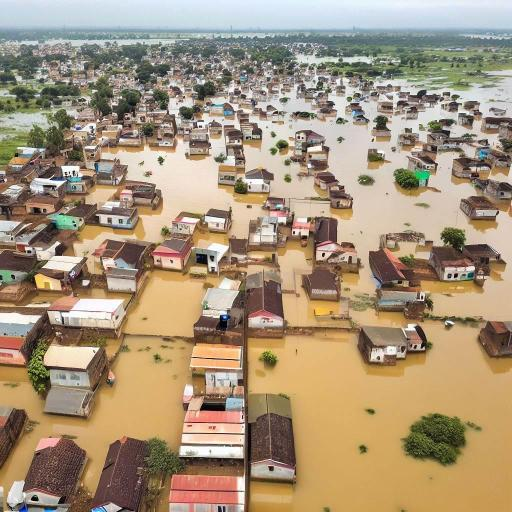flood: (248, 99, 512, 326), (249, 322, 512, 512), (0, 336, 193, 494), (72, 136, 264, 258), (124, 270, 206, 337), (279, 240, 336, 326), (0, 110, 48, 165), (448, 76, 512, 112), (258, 86, 312, 111), (452, 120, 500, 145), (168, 76, 194, 113), (376, 78, 448, 91), (332, 77, 354, 111), (44, 38, 114, 46), (296, 54, 338, 64), (116, 38, 175, 44), (344, 56, 373, 63), (19, 40, 38, 44)
house: (20, 436, 88, 510), (93, 437, 159, 509), (247, 393, 297, 485), (182, 392, 246, 462), (166, 471, 248, 512), (242, 272, 286, 341), (60, 296, 128, 334), (0, 312, 48, 364), (96, 236, 148, 282), (188, 340, 244, 382), (44, 344, 102, 382), (0, 404, 30, 476), (41, 384, 96, 422), (357, 326, 409, 366), (370, 250, 420, 290), (432, 243, 476, 279), (151, 236, 193, 273), (477, 319, 512, 359), (37, 252, 85, 281), (229, 202, 261, 244), (306, 267, 340, 305), (120, 180, 162, 210), (0, 248, 36, 278), (311, 218, 343, 251), (462, 198, 498, 225), (0, 277, 34, 305), (244, 166, 276, 195), (451, 158, 493, 180), (195, 236, 225, 266), (96, 159, 128, 187), (48, 211, 85, 235), (405, 322, 431, 354), (171, 210, 199, 238), (99, 209, 138, 229), (30, 178, 69, 198), (24, 196, 62, 216), (254, 221, 280, 249), (203, 208, 230, 232), (407, 153, 439, 173), (12, 146, 46, 164), (488, 172, 510, 198), (63, 164, 83, 192), (290, 216, 313, 240), (329, 190, 355, 211), (315, 170, 337, 194), (148, 130, 176, 148), (296, 129, 326, 145), (481, 116, 512, 131), (217, 164, 237, 187), (229, 235, 247, 257), (240, 123, 262, 141), (119, 131, 143, 147), (187, 128, 207, 146), (412, 170, 432, 188), (186, 143, 208, 159), (374, 126, 392, 142), (226, 129, 244, 143), (207, 103, 227, 114), (401, 134, 415, 148), (210, 122, 222, 138), (312, 95, 328, 106)
